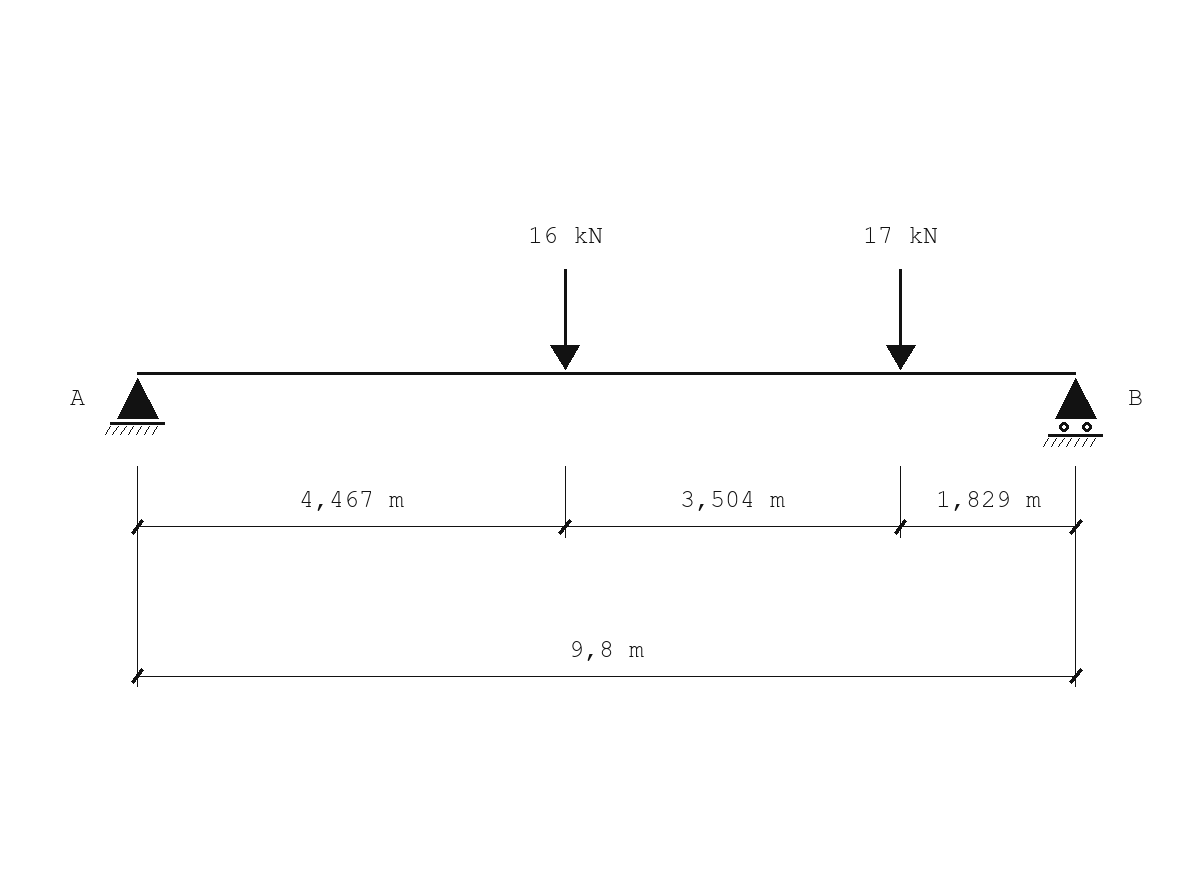pin_support: (105, 378, 165, 435)
point_load: (550, 269, 580, 370), (886, 269, 916, 370)
roller_support: (1043, 378, 1103, 447)
